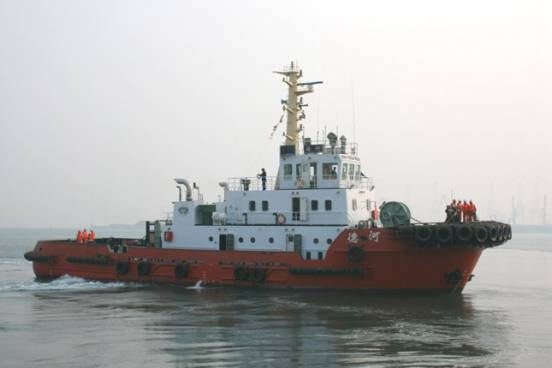otherboat: (21, 62, 500, 305)
